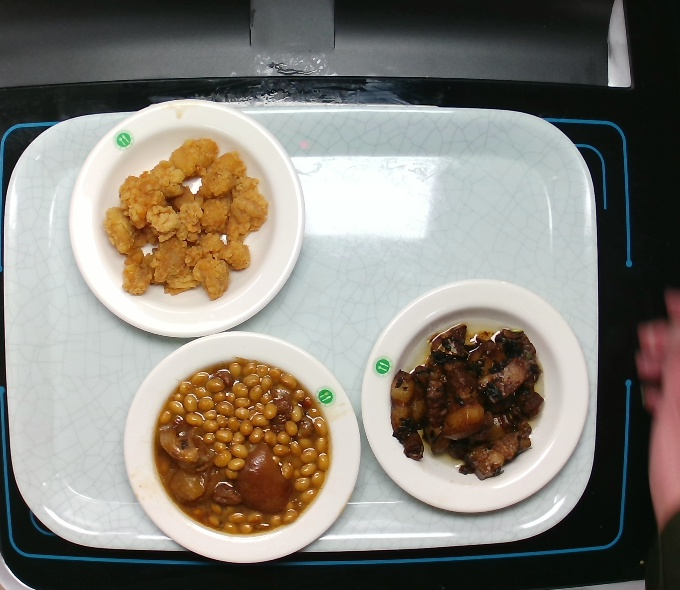wcq-GanCaiRou: (386, 320, 551, 484)
wcq-HuangDouZhuJiao: (151, 355, 334, 539)
wcq-JiMiHua: (97, 134, 271, 304)
